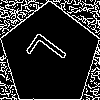L: (25, 30, 76, 80)
